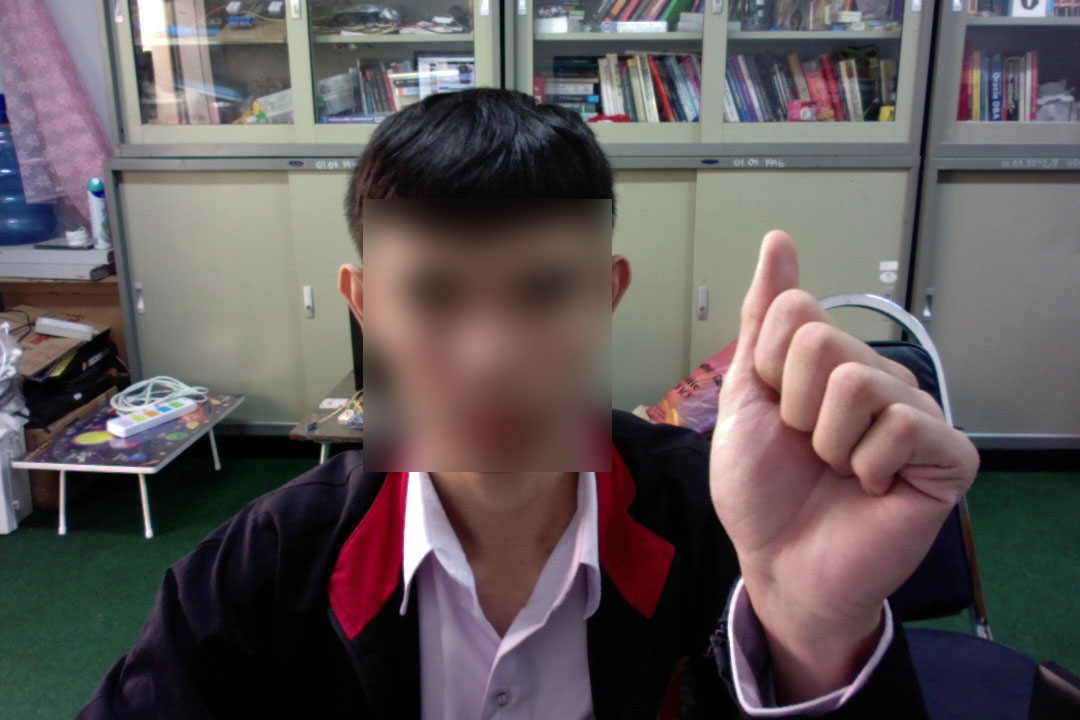or: (699, 211, 988, 630)
